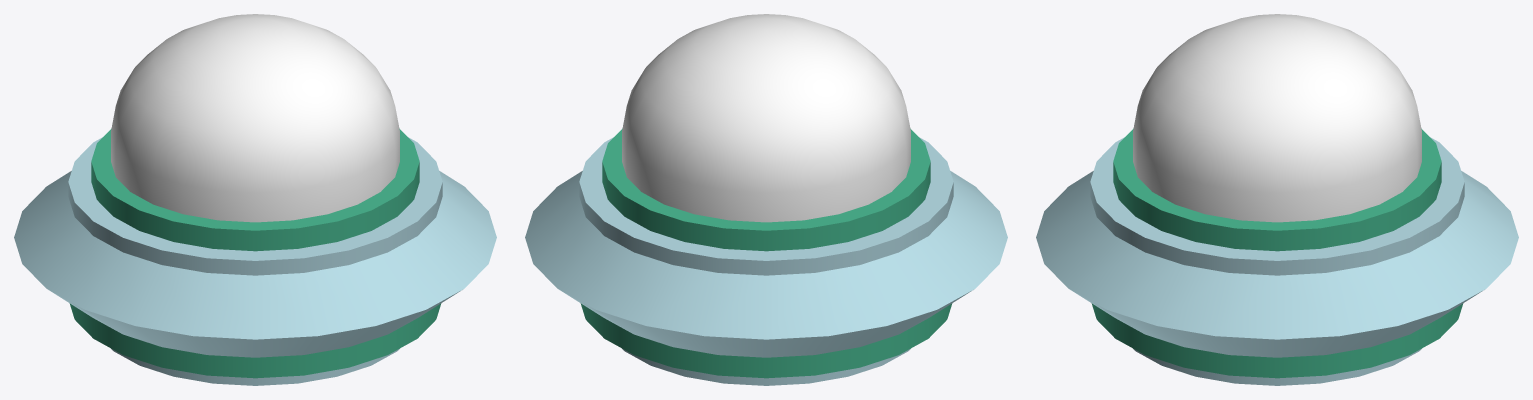
Rendered from enemy_ufoGreen.dae.
3 views of the same model, side by side, from view 1: azimuth 30°, elevation 25°; view 2: azimuth 150°, elevation 25°; view 3: azimuth 270°, elevation 25° (orthographic).
Parts seen in each view (by area): view 1: enemy_ufoGreen; view 2: enemy_ufoGreen; view 3: enemy_ufoGreen.
Part boxes in pixels (bbox=[...]): enemy_ufoGreen: bbox=[14, 14, 496, 385]; enemy_ufoGreen: bbox=[525, 14, 1007, 385]; enemy_ufoGreen: bbox=[1036, 14, 1518, 385].
Size of the model in its own units: 1 by 0.6529 by 1.
